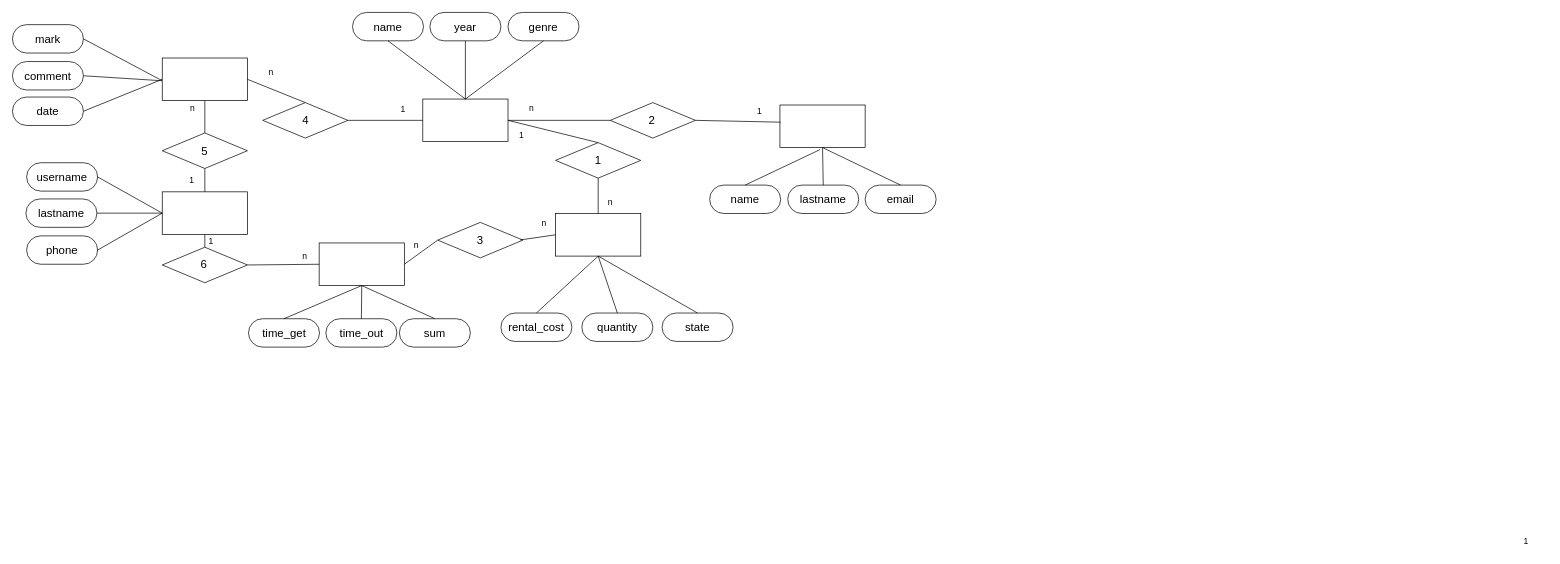
This 1560x564 diagram has some shape labels left out. The shapes that lost their labels are listed below. From the top down, each one's centre as x and y in pixels, then its label:
At (x=204, y=79): "Review".
At (x=465, y=120): "Film".
At (x=822, y=126): "Director".
At (x=204, y=212): "Client".
At (x=598, y=234): "Disk".
At (x=361, y=264): "Order".
